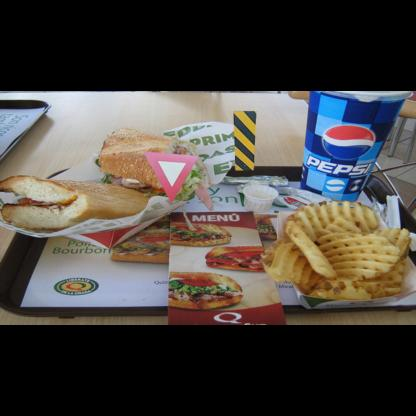O-MP: (233, 111, 256, 171)
R-2: (143, 151, 199, 204)
